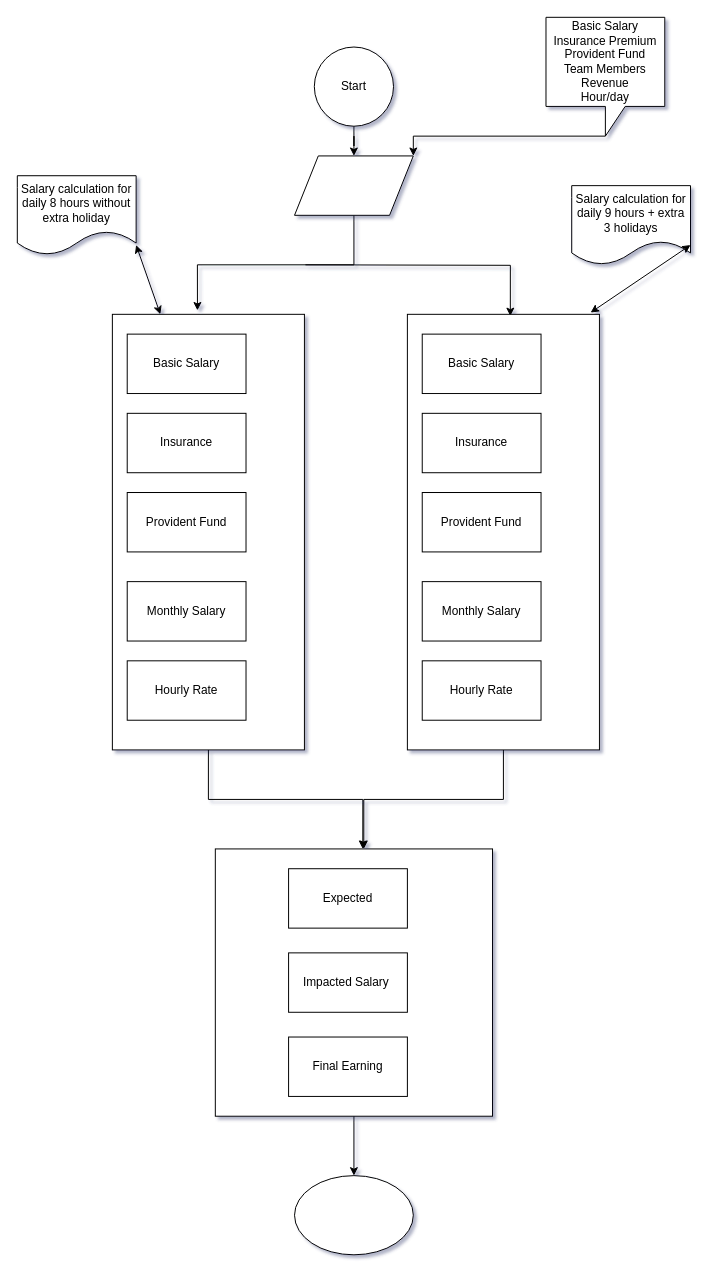
Some shapes in this 723 by 1278 pixel diagram are drawn without their labels. Here are the shapes that lost their labels. From the top down, the box of each, then its label:
(294, 155, 413, 215): Input
(294, 1175, 413, 1255): End
